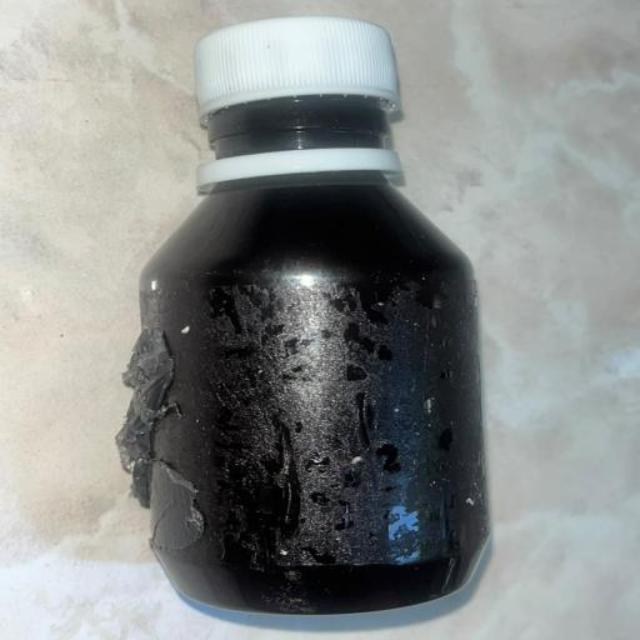HDPE: (88, 20, 561, 626)
